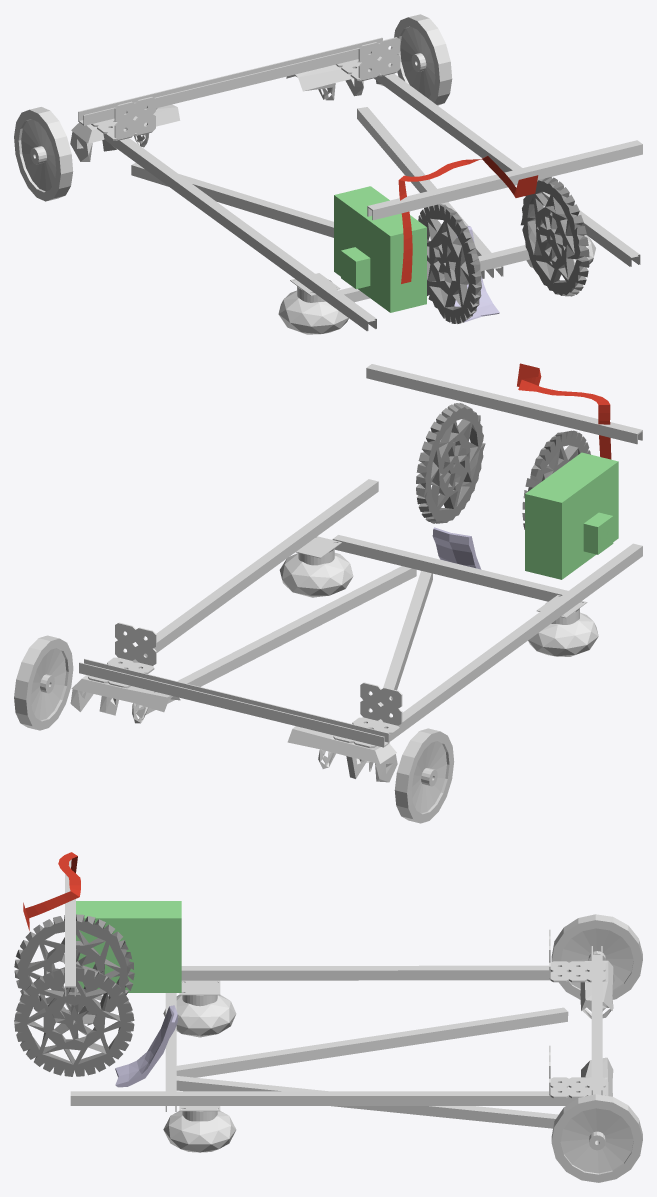
Rendered from alligator.fbx.
The picture shows the model from 3 angles, top to bottom: view 1: azimuth 30°, elevation 25°; view 2: azimuth 150°, elevation 25°; view 3: azimuth 270°, elevation 25°; orthographic projection. The views are drawn at different scales.
Visible parts, largest first — view 1: BandWheel.003, Aluminium_12x12x1.015, Jetson Nano Acryllic Case.001, Cart-Wheel.005, Aluminium_12x12x1.018, Aluminium_12x12x1.014, Cart-Wheel.002, Make-A-Angle-50x40-60x2.011, Back-Axle-Frame.001, Aluminium_12x12x1.017, Wheel 51mm High.001, Aluminium_12x12x1.016 (+3 smaller); view 2: Aluminium_12x12x1.015, Jetson Nano Acryllic Case.001, BandWheel.003, Wheel 51mm High.001, Aluminium_12x12x1.014, Back-Axle-Frame.001, Aluminium_12x12x1.018, Cart-Wheel.002, Cart-Wheel.005, Aluminium_12x12x1.016, Make-A-Angle-50x40-60x2.011, Aluminium_12x12x1.013 (+3 smaller); view 3: BandWheel.003, Aluminium_12x12x1.015, Jetson Nano Acryllic Case.001, Cart-Wheel.002, Aluminium_12x12x1.017, Wheel 51mm High.001, Cart-Wheel.005, Aluminium_12x12x1.016, Make-A-Angle-50x40-60x2.011, Aluminium_12x12x1.014, Plane.002, Back-Axle-Frame.001 (+3 smaller).
Part boxes in pixels (bbox=[...]): BandWheel.003: bbox=[418, 177, 589, 323]; Aluminium_12x12x1.015: bbox=[103, 69, 640, 331]; Jetson Nano Acryllic Case.001: bbox=[334, 186, 426, 312]; Cart-Wheel.005: bbox=[14, 107, 73, 201]; Aluminium_12x12x1.018: bbox=[367, 140, 642, 220]; Aluminium_12x12x1.014: bbox=[78, 37, 382, 125]; Cart-Wheel.002: bbox=[394, 14, 452, 105]; Make-A-Angle-50x40-60x2.011: bbox=[91, 37, 400, 140]; Back-Axle-Frame.001: bbox=[70, 56, 394, 161]; Aluminium_12x12x1.017: bbox=[131, 163, 484, 278]; Wheel 51mm High.001: bbox=[278, 235, 595, 334]; Aluminium_12x12x1.016: bbox=[357, 107, 503, 278]; Aluminium_12x12x1.015: bbox=[120, 479, 642, 741]; Jetson Nano Acryllic Case.001: bbox=[525, 452, 618, 579]; BandWheel.003: bbox=[416, 403, 590, 529]; Wheel 51mm High.001: bbox=[279, 536, 598, 656]; Aluminium_12x12x1.014: bbox=[79, 658, 389, 747]; Back-Axle-Frame.001: bbox=[70, 675, 397, 782]; Aluminium_12x12x1.018: bbox=[366, 364, 642, 444]; Cart-Wheel.002: bbox=[14, 635, 73, 730]; Cart-Wheel.005: bbox=[394, 728, 454, 823]; Aluminium_12x12x1.016: bbox=[132, 566, 416, 715]; Make-A-Angle-50x40-60x2.011: bbox=[88, 622, 402, 748]; Aluminium_12x12x1.013: bbox=[332, 535, 567, 601]; BandWheel.003: bbox=[14, 914, 134, 1076]; Aluminium_12x12x1.015: bbox=[70, 965, 577, 1105]; Jetson Nano Acryllic Case.001: bbox=[76, 901, 181, 992]; Cart-Wheel.002: bbox=[551, 1094, 642, 1182]; Aluminium_12x12x1.017: bbox=[176, 1007, 568, 1077]; Wheel 51mm High.001: bbox=[163, 980, 236, 1152]; Cart-Wheel.005: bbox=[551, 914, 642, 999]; Aluminium_12x12x1.016: bbox=[176, 1076, 558, 1128]; Make-A-Angle-50x40-60x2.011: bbox=[549, 929, 605, 1098]; Aluminium_12x12x1.014: bbox=[591, 946, 602, 1095]; Plane.002: bbox=[115, 1005, 177, 1087]; Back-Axle-Frame.001: bbox=[580, 960, 614, 1096].
Size of the model in its own units: 48.75 by 68.75 by 23.1.
